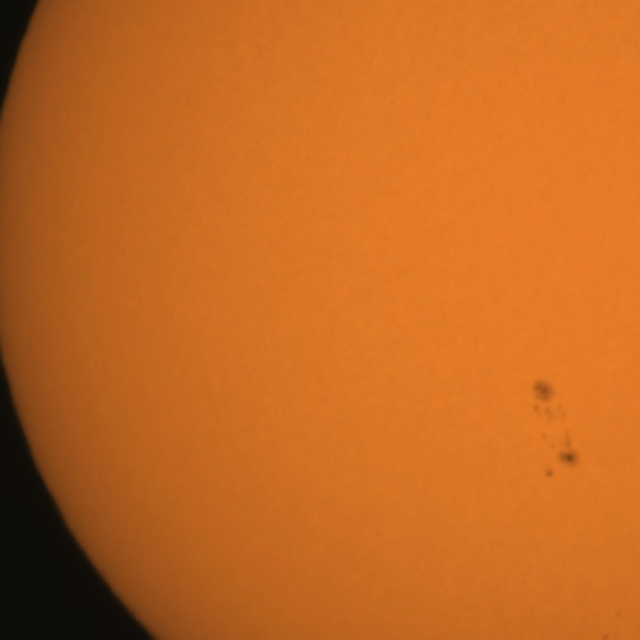sunspot: (536, 429, 580, 480), (528, 378, 566, 421), (614, 608, 624, 620), (600, 632, 612, 640)
